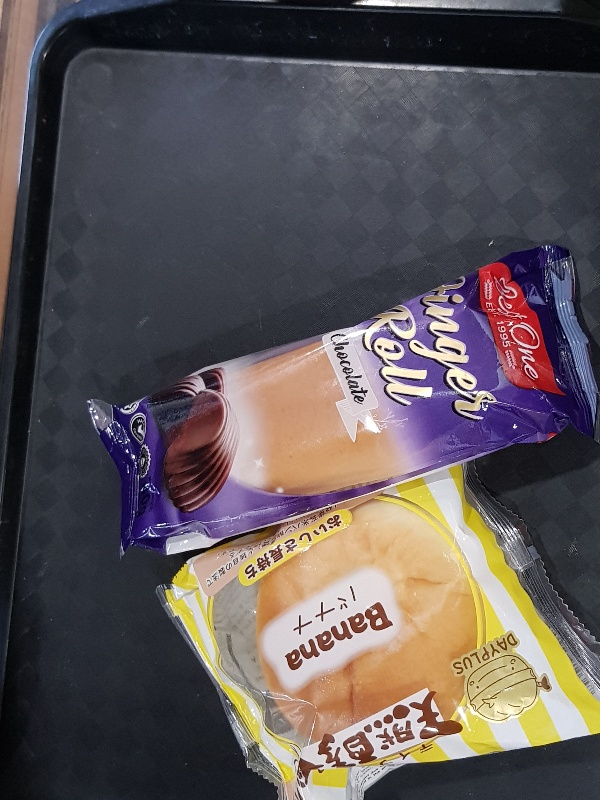Dayplus Banana: (155, 459, 600, 799)
Tinges Roll Chocolate: (85, 242, 600, 553)
